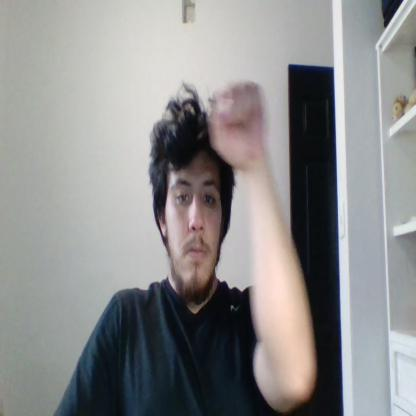S: (209, 81, 264, 168)
